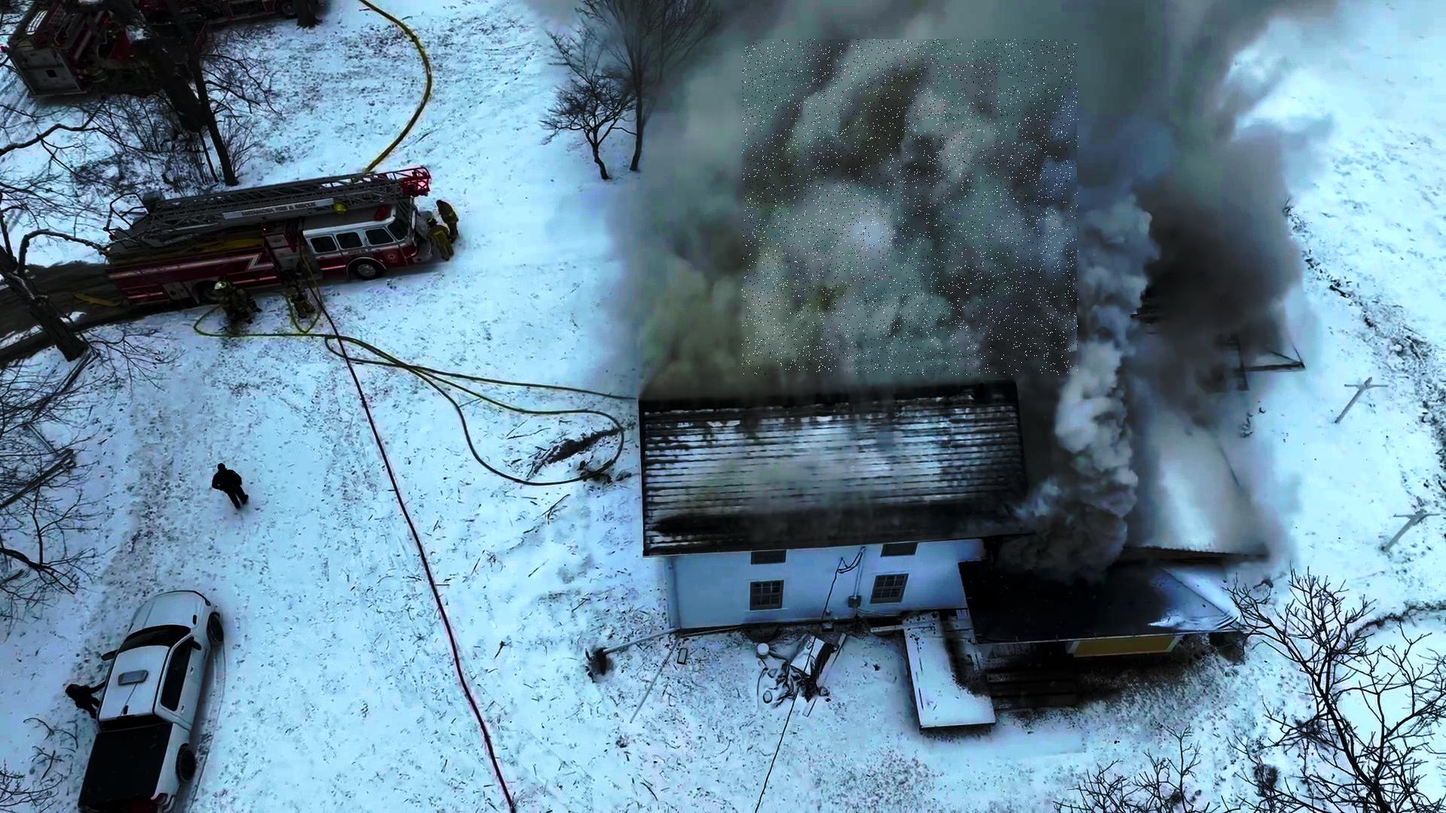smoke: (742, 40, 1079, 375)
